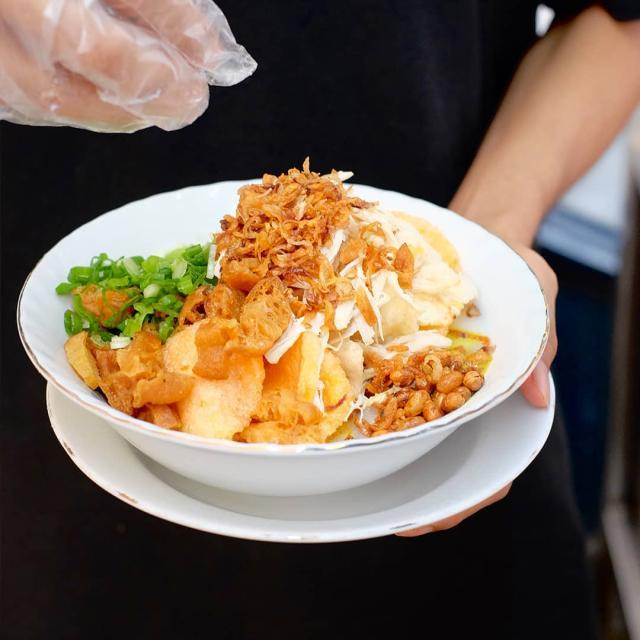bubur ayam: (70, 162, 495, 444)
mangkuk: (17, 170, 550, 498)
